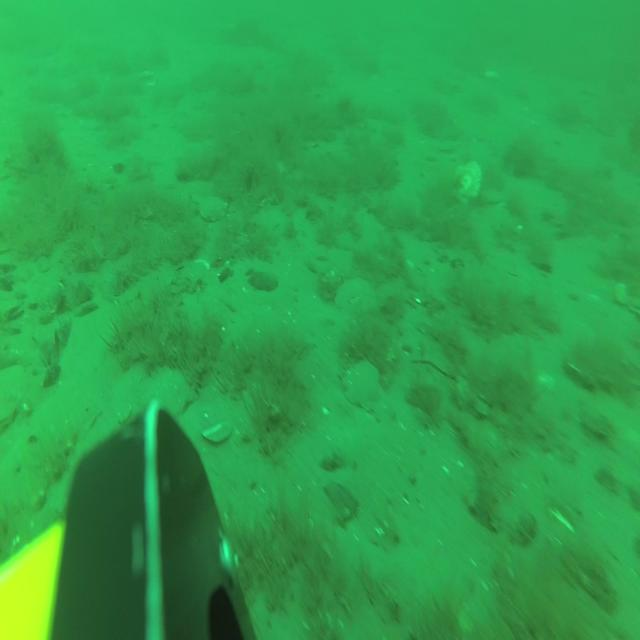scallop: (150, 370, 194, 426), (336, 274, 378, 325), (344, 361, 384, 414), (0, 361, 24, 432), (455, 160, 482, 204), (200, 195, 228, 222), (185, 180, 212, 203)
